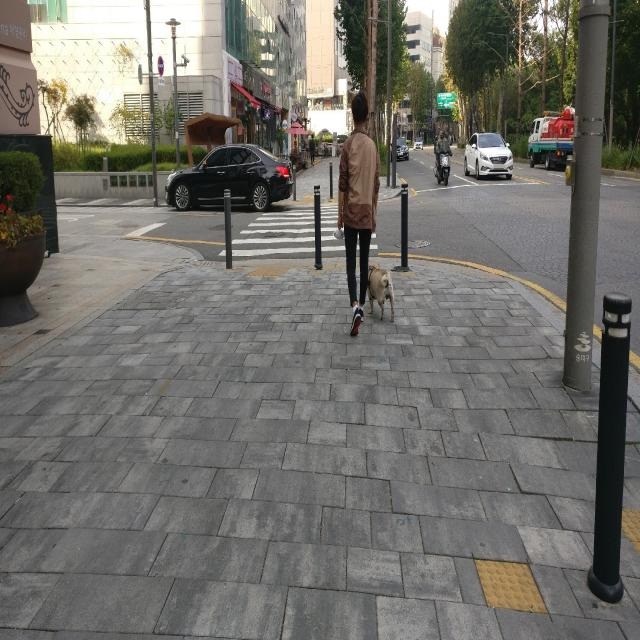횡단보도: (217, 206, 378, 258)
